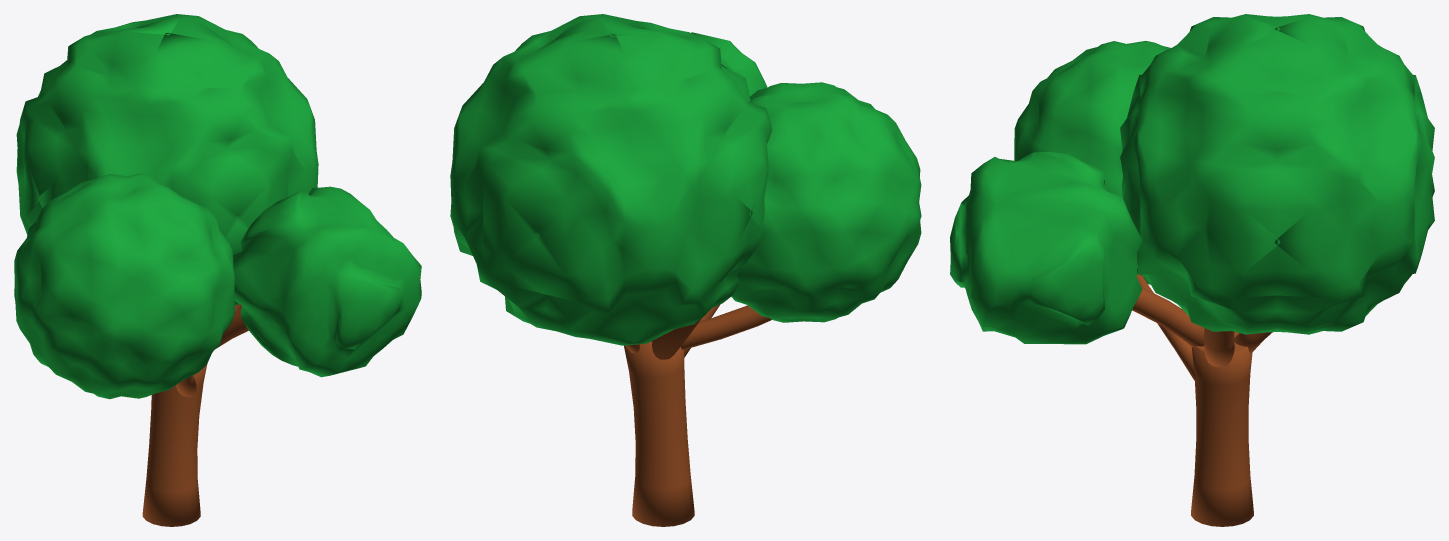
The model's file is bigtreeIII.dae.
The picture shows the model from 3 angles, left to right: view 1: azimuth 30°, elevation 25°; view 2: azimuth 150°, elevation 25°; view 3: azimuth 270°, elevation 25°; orthographic projection. The views are drawn at different scales.
Visible parts, largest first — view 1: Geosph_re001, Geosph_re002, Geosph_re003, Zylinder001; view 2: Geosph_re001, Geosph_re002, Zylinder001, Zylinder007, Geosph_re003, Zylinder004; view 3: Geosph_re001, Geosph_re003, Geosph_re002, Zylinder001, Zylinder006, Zylinder002, Zylinder005.
Boxes of the visible parts, x1,y1,x2,y2 form: Geosph_re001: (16, 14, 318, 305); Geosph_re002: (14, 173, 234, 399); Geosph_re003: (233, 186, 421, 377); Zylinder001: (142, 364, 207, 526); Geosph_re001: (450, 14, 772, 345); Geosph_re002: (731, 82, 921, 322); Zylinder001: (624, 341, 694, 526); Zylinder007: (681, 305, 771, 349); Geosph_re003: (691, 32, 767, 96); Zylinder004: (651, 318, 701, 359); Geosph_re001: (1120, 14, 1434, 334); Geosph_re003: (950, 152, 1142, 344); Geosph_re002: (1014, 41, 1170, 284); Zylinder001: (1191, 333, 1253, 526); Zylinder006: (1132, 287, 1204, 347); Zylinder002: (1204, 328, 1234, 367); Zylinder005: (1137, 274, 1195, 380).
Bounding box in the file's own units: 3 × 3.47 × 3.91.
